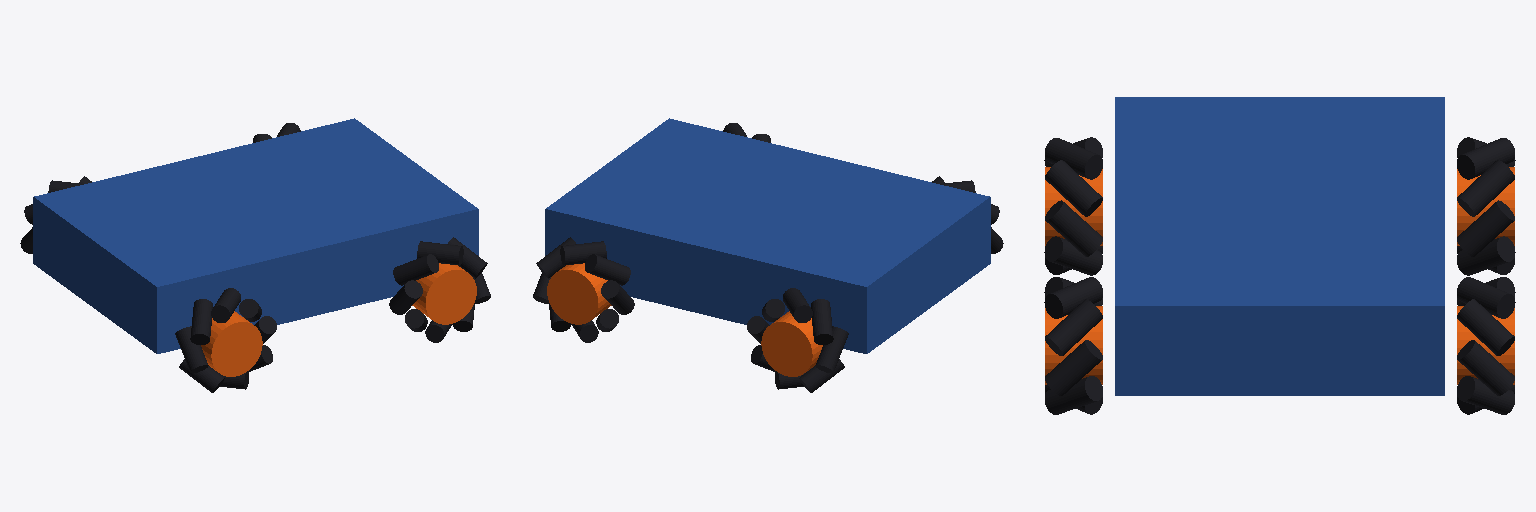
URDF robot description (mecanum_bot):
<?xml version="1.0" ?>
<!-- Generated by Robot Studio 1.0.0 from the 'mecanum' template (Four-wheel mecanum base).
     Parameters are xacro properties below; sensors are switched with arguments, e.g.
       xacro mecanum_bot.urdf.xacro use_lidar:=false
     Software-generated: check masses, dimensions and limits against the real robot. -->
<robot name="mecanum_bot">
  <material name="chassis">
    <color rgba="0.2 0.36 0.62 1"/>
  </material>
  <material name="wheel">
    <color rgba="0.15 0.15 0.17 1"/>
  </material>
  <material name="hub">
    <color rgba="0.92 0.42 0.12 1"/>
  </material>
  <material name="caster">
    <color rgba="0.6 0.6 0.62 1"/>
  </material>
  <material name="sensor">
    <color rgba="0.08 0.08 0.09 1"/>
  </material>
  <link name="base_footprint"/>
  <link name="base_link">
    <inertial>
      <origin rpy="0 0 0" xyz="0 0 0.02"/>
      <mass value="3"/>
      <inertia ixx="0.010900000000000002" ixy="0" ixz="0" iyy="0.0234" iyz="0" izz="0.0325"/>
    </inertial>
    <visual>
      <origin rpy="0 0 0" xyz="0 0 0.02"/>
      <geometry>
        <box size="0.3 0.2 0.06"/>
      </geometry>
      <material name="chassis"/>
    </visual>
    <collision>
      <origin rpy="0 0 0" xyz="0 0 0.02"/>
      <geometry>
        <box size="0.3 0.2 0.06"/>
      </geometry>
    </collision>
  </link>
  <joint name="base_joint" type="fixed">
    <parent link="base_footprint"/>
    <child link="base_link"/>
    <origin rpy="0 0 0" xyz="0 0 0.04"/>
  </joint>
  <link name="front_left_wheel">
    <inertial>
      <origin rpy="0 0 0" xyz="0 0 0"/>
      <mass value="0.15"/>
      <inertia ixx="7.53125e-05" ixy="0" ixz="0" iyy="0.00012" iyz="0" izz="7.53125e-05"/>
    </inertial>
    <visual name="hub">
      <origin rpy="1.5707963267948966 0 0" xyz="0 0 0"/>
      <geometry>
        <cylinder length="0.035" radius="0.024"/>
      </geometry>
      <material name="hub"/>
    </visual>
    <visual name="roller_0">
      <origin rpy="0.7853981633974483 -0.0 0" xyz="0.032 0 0.0"/>
      <geometry>
        <cylinder length="0.03455751918948773" radius="0.008"/>
      </geometry>
      <material name="wheel"/>
    </visual>
    <visual name="roller_1">
      <origin rpy="0.7853981633974483 -0.7853981633974483 0" xyz="0.022627416997969524 0 0.02262741699796952"/>
      <geometry>
        <cylinder length="0.03455751918948773" radius="0.008"/>
      </geometry>
      <material name="wheel"/>
    </visual>
    <visual name="roller_2">
      <origin rpy="0.7853981633974483 -1.5707963267948966 0" xyz="1.959434878635765e-18 0 0.032"/>
      <geometry>
        <cylinder length="0.03455751918948773" radius="0.008"/>
      </geometry>
      <material name="wheel"/>
    </visual>
    <visual name="roller_3">
      <origin rpy="0.7853981633974483 -2.356194490192345 0" xyz="-0.02262741699796952 0 0.022627416997969524"/>
      <geometry>
        <cylinder length="0.03455751918948773" radius="0.008"/>
      </geometry>
      <material name="wheel"/>
    </visual>
    <visual name="roller_4">
      <origin rpy="0.7853981633974483 -3.141592653589793 0" xyz="-0.032 0 3.91886975727153e-18"/>
      <geometry>
        <cylinder length="0.03455751918948773" radius="0.008"/>
      </geometry>
      <material name="wheel"/>
    </visual>
    <visual name="roller_5">
      <origin rpy="0.7853981633974483 -3.9269908169872414 0" xyz="-0.022627416997969527 0 -0.02262741699796952"/>
      <geometry>
        <cylinder length="0.03455751918948773" radius="0.008"/>
      </geometry>
      <material name="wheel"/>
    </visual>
    <visual name="roller_6">
      <origin rpy="0.7853981633974483 -4.71238898038469 0" xyz="-5.8783046359072955e-18 0 -0.032"/>
      <geometry>
        <cylinder length="0.03455751918948773" radius="0.008"/>
      </geometry>
      <material name="wheel"/>
    </visual>
    <visual name="roller_7">
      <origin rpy="0.7853981633974483 -5.497787143782138 0" xyz="0.022627416997969517 0 -0.022627416997969527"/>
      <geometry>
        <cylinder length="0.03455751918948773" radius="0.008"/>
      </geometry>
      <material name="wheel"/>
    </visual>
    <collision>
      <origin rpy="1.5707963267948966 0 0" xyz="0 0 0"/>
      <geometry>
        <cylinder length="0.035" radius="0.04"/>
      </geometry>
    </collision>
  </link>
  <joint name="front_left_wheel_joint" type="continuous">
    <parent link="base_link"/>
    <child link="front_left_wheel"/>
    <origin rpy="0 0 0" xyz="0.1 0.125 0"/>
    <axis xyz="0 1 0"/>
    <limit effort="2" velocity="20"/>
  </joint>
  <link name="front_right_wheel">
    <inertial>
      <origin rpy="0 0 0" xyz="0 0 0"/>
      <mass value="0.15"/>
      <inertia ixx="7.53125e-05" ixy="0" ixz="0" iyy="0.00012" iyz="0" izz="7.53125e-05"/>
    </inertial>
    <visual name="hub">
      <origin rpy="1.5707963267948966 0 0" xyz="0 0 0"/>
      <geometry>
        <cylinder length="0.035" radius="0.024"/>
      </geometry>
      <material name="hub"/>
    </visual>
    <visual name="roller_0">
      <origin rpy="-0.7853981633974483 -0.0 0" xyz="0.032 0 0.0"/>
      <geometry>
        <cylinder length="0.03455751918948773" radius="0.008"/>
      </geometry>
      <material name="wheel"/>
    </visual>
    <visual name="roller_1">
      <origin rpy="-0.7853981633974483 -0.7853981633974483 0" xyz="0.022627416997969524 0 0.02262741699796952"/>
      <geometry>
        <cylinder length="0.03455751918948773" radius="0.008"/>
      </geometry>
      <material name="wheel"/>
    </visual>
    <visual name="roller_2">
      <origin rpy="-0.7853981633974483 -1.5707963267948966 0" xyz="1.959434878635765e-18 0 0.032"/>
      <geometry>
        <cylinder length="0.03455751918948773" radius="0.008"/>
      </geometry>
      <material name="wheel"/>
    </visual>
    <visual name="roller_3">
      <origin rpy="-0.7853981633974483 -2.356194490192345 0" xyz="-0.02262741699796952 0 0.022627416997969524"/>
      <geometry>
        <cylinder length="0.03455751918948773" radius="0.008"/>
      </geometry>
      <material name="wheel"/>
    </visual>
    <visual name="roller_4">
      <origin rpy="-0.7853981633974483 -3.141592653589793 0" xyz="-0.032 0 3.91886975727153e-18"/>
      <geometry>
        <cylinder length="0.03455751918948773" radius="0.008"/>
      </geometry>
      <material name="wheel"/>
    </visual>
    <visual name="roller_5">
      <origin rpy="-0.7853981633974483 -3.9269908169872414 0" xyz="-0.022627416997969527 0 -0.02262741699796952"/>
      <geometry>
        <cylinder length="0.03455751918948773" radius="0.008"/>
      </geometry>
      <material name="wheel"/>
    </visual>
    <visual name="roller_6">
      <origin rpy="-0.7853981633974483 -4.71238898038469 0" xyz="-5.8783046359072955e-18 0 -0.032"/>
      <geometry>
        <cylinder length="0.03455751918948773" radius="0.008"/>
      </geometry>
      <material name="wheel"/>
    </visual>
    <visual name="roller_7">
      <origin rpy="-0.7853981633974483 -5.497787143782138 0" xyz="0.022627416997969517 0 -0.022627416997969527"/>
      <geometry>
        <cylinder length="0.03455751918948773" radius="0.008"/>
      </geometry>
      <material name="wheel"/>
    </visual>
    <collision>
      <origin rpy="1.5707963267948966 0 0" xyz="0 0 0"/>
      <geometry>
        <cylinder length="0.035" radius="0.04"/>
      </geometry>
    </collision>
  </link>
  <joint name="front_right_wheel_joint" type="continuous">
    <parent link="base_link"/>
    <child link="front_right_wheel"/>
    <origin rpy="0 0 0" xyz="0.1 -0.125 0"/>
    <axis xyz="0 1 0"/>
    <limit effort="2" velocity="20"/>
  </joint>
  <link name="rear_left_wheel">
    <inertial>
      <origin rpy="0 0 0" xyz="0 0 0"/>
      <mass value="0.15"/>
      <inertia ixx="7.53125e-05" ixy="0" ixz="0" iyy="0.00012" iyz="0" izz="7.53125e-05"/>
    </inertial>
    <visual name="hub">
      <origin rpy="1.5707963267948966 0 0" xyz="0 0 0"/>
      <geometry>
        <cylinder length="0.035" radius="0.024"/>
      </geometry>
      <material name="hub"/>
    </visual>
    <visual name="roller_0">
      <origin rpy="-0.7853981633974483 -0.0 0" xyz="0.032 0 0.0"/>
      <geometry>
        <cylinder length="0.03455751918948773" radius="0.008"/>
      </geometry>
      <material name="wheel"/>
    </visual>
    <visual name="roller_1">
      <origin rpy="-0.7853981633974483 -0.7853981633974483 0" xyz="0.022627416997969524 0 0.02262741699796952"/>
      <geometry>
        <cylinder length="0.03455751918948773" radius="0.008"/>
      </geometry>
      <material name="wheel"/>
    </visual>
    <visual name="roller_2">
      <origin rpy="-0.7853981633974483 -1.5707963267948966 0" xyz="1.959434878635765e-18 0 0.032"/>
      <geometry>
        <cylinder length="0.03455751918948773" radius="0.008"/>
      </geometry>
      <material name="wheel"/>
    </visual>
    <visual name="roller_3">
      <origin rpy="-0.7853981633974483 -2.356194490192345 0" xyz="-0.02262741699796952 0 0.022627416997969524"/>
      <geometry>
        <cylinder length="0.03455751918948773" radius="0.008"/>
      </geometry>
      <material name="wheel"/>
    </visual>
    <visual name="roller_4">
      <origin rpy="-0.7853981633974483 -3.141592653589793 0" xyz="-0.032 0 3.91886975727153e-18"/>
      <geometry>
        <cylinder length="0.03455751918948773" radius="0.008"/>
      </geometry>
      <material name="wheel"/>
    </visual>
    <visual name="roller_5">
      <origin rpy="-0.7853981633974483 -3.9269908169872414 0" xyz="-0.022627416997969527 0 -0.02262741699796952"/>
      <geometry>
        <cylinder length="0.03455751918948773" radius="0.008"/>
      </geometry>
      <material name="wheel"/>
    </visual>
    <visual name="roller_6">
      <origin rpy="-0.7853981633974483 -4.71238898038469 0" xyz="-5.8783046359072955e-18 0 -0.032"/>
      <geometry>
        <cylinder length="0.03455751918948773" radius="0.008"/>
      </geometry>
      <material name="wheel"/>
    </visual>
    <visual name="roller_7">
      <origin rpy="-0.7853981633974483 -5.497787143782138 0" xyz="0.022627416997969517 0 -0.022627416997969527"/>
      <geometry>
        <cylinder length="0.03455751918948773" radius="0.008"/>
      </geometry>
      <material name="wheel"/>
    </visual>
    <collision>
      <origin rpy="1.5707963267948966 0 0" xyz="0 0 0"/>
      <geometry>
        <cylinder length="0.035" radius="0.04"/>
      </geometry>
    </collision>
  </link>
  <joint name="rear_left_wheel_joint" type="continuous">
    <parent link="base_link"/>
    <child link="rear_left_wheel"/>
    <origin rpy="0 0 0" xyz="-0.1 0.125 0"/>
    <axis xyz="0 1 0"/>
    <limit effort="2" velocity="20"/>
  </joint>
  <link name="rear_right_wheel">
    <inertial>
      <origin rpy="0 0 0" xyz="0 0 0"/>
      <mass value="0.15"/>
      <inertia ixx="7.53125e-05" ixy="0" ixz="0" iyy="0.00012" iyz="0" izz="7.53125e-05"/>
    </inertial>
    <visual name="hub">
      <origin rpy="1.5707963267948966 0 0" xyz="0 0 0"/>
      <geometry>
        <cylinder length="0.035" radius="0.024"/>
      </geometry>
      <material name="hub"/>
    </visual>
    <visual name="roller_0">
      <origin rpy="0.7853981633974483 -0.0 0" xyz="0.032 0 0.0"/>
      <geometry>
        <cylinder length="0.03455751918948773" radius="0.008"/>
      </geometry>
      <material name="wheel"/>
    </visual>
    <visual name="roller_1">
      <origin rpy="0.7853981633974483 -0.7853981633974483 0" xyz="0.022627416997969524 0 0.02262741699796952"/>
      <geometry>
        <cylinder length="0.03455751918948773" radius="0.008"/>
      </geometry>
      <material name="wheel"/>
    </visual>
    <visual name="roller_2">
      <origin rpy="0.7853981633974483 -1.5707963267948966 0" xyz="1.959434878635765e-18 0 0.032"/>
      <geometry>
        <cylinder length="0.03455751918948773" radius="0.008"/>
      </geometry>
      <material name="wheel"/>
    </visual>
    <visual name="roller_3">
      <origin rpy="0.7853981633974483 -2.356194490192345 0" xyz="-0.02262741699796952 0 0.022627416997969524"/>
      <geometry>
        <cylinder length="0.03455751918948773" radius="0.008"/>
      </geometry>
      <material name="wheel"/>
    </visual>
    <visual name="roller_4">
      <origin rpy="0.7853981633974483 -3.141592653589793 0" xyz="-0.032 0 3.91886975727153e-18"/>
      <geometry>
        <cylinder length="0.03455751918948773" radius="0.008"/>
      </geometry>
      <material name="wheel"/>
    </visual>
    <visual name="roller_5">
      <origin rpy="0.7853981633974483 -3.9269908169872414 0" xyz="-0.022627416997969527 0 -0.02262741699796952"/>
      <geometry>
        <cylinder length="0.03455751918948773" radius="0.008"/>
      </geometry>
      <material name="wheel"/>
    </visual>
    <visual name="roller_6">
      <origin rpy="0.7853981633974483 -4.71238898038469 0" xyz="-5.8783046359072955e-18 0 -0.032"/>
      <geometry>
        <cylinder length="0.03455751918948773" radius="0.008"/>
      </geometry>
      <material name="wheel"/>
    </visual>
    <visual name="roller_7">
      <origin rpy="0.7853981633974483 -5.497787143782138 0" xyz="0.022627416997969517 0 -0.022627416997969527"/>
      <geometry>
        <cylinder length="0.03455751918948773" radius="0.008"/>
      </geometry>
      <material name="wheel"/>
    </visual>
    <collision>
      <origin rpy="1.5707963267948966 0 0" xyz="0 0 0"/>
      <geometry>
        <cylinder length="0.035" radius="0.04"/>
      </geometry>
    </collision>
  </link>
  <joint name="rear_right_wheel_joint" type="continuous">
    <parent link="base_link"/>
    <child link="rear_right_wheel"/>
    <origin rpy="0 0 0" xyz="-0.1 -0.125 0"/>
    <axis xyz="0 1 0"/>
    <limit effort="2" velocity="20"/>
  </joint>
</robot>

--- Facts derived from the render (not from the file) ---
Views: 3 orthographic renders of the robot side by side, from view 1: azimuth 30°, elevation 25°; view 2: azimuth 150°, elevation 25°; view 3: azimuth 270°, elevation 25°.
Robot: mecanum_bot — 6 links, 5 joints (4 continuous, 1 fixed); root link base_footprint; default pose: every joint at zero.
Links seen in each view (by area): view 1: base_link, front_right_wheel, rear_right_wheel, rear_left_wheel; view 2: base_link, front_left_wheel, rear_left_wheel, rear_right_wheel; view 3: base_link, front_left_wheel, front_right_wheel, rear_left_wheel, rear_right_wheel.
Boxes of the visible links, x1,y1,x2,y2 form: base_link: (33,118,478,353); front_right_wheel: (389,237,490,342); rear_right_wheel: (175,288,276,392); rear_left_wheel: (20,176,91,253); base_link: (545,118,990,353); front_left_wheel: (533,237,634,342); rear_left_wheel: (747,288,848,392); rear_right_wheel: (932,176,1003,253); base_link: (1115,97,1444,395); front_left_wheel: (1457,277,1515,414); front_right_wheel: (1044,277,1102,414); rear_left_wheel: (1457,137,1515,275); rear_right_wheel: (1044,137,1102,275).
Size in the robot's own frame: 0.3 by 0.2857 by 0.09 metres.
Geometry: primitives only (box / cylinder / sphere), no mesh files.
